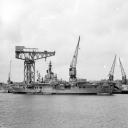Portanaves: (8, 62, 118, 97)
